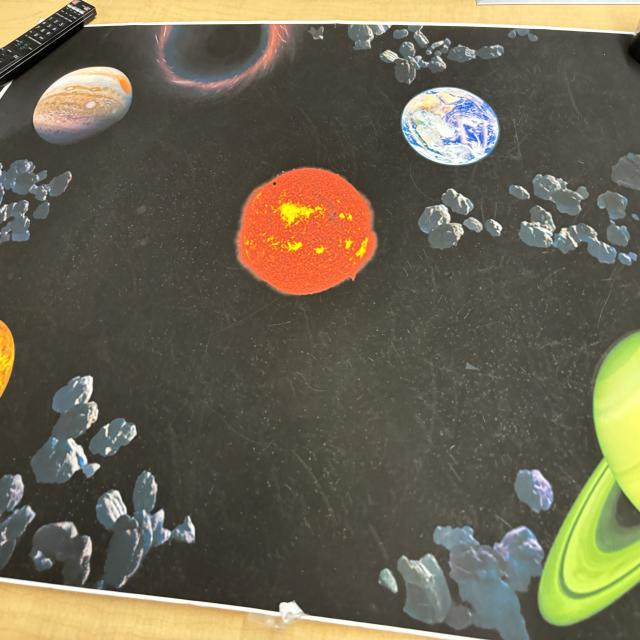Asteroids: (418, 146, 638, 282), (4, 390, 152, 581), (390, 484, 543, 637), (349, 20, 537, 78), (0, 157, 70, 245)
Black Hole: (158, 26, 286, 89)
Earth: (402, 84, 498, 164)
Jupiter: (32, 64, 131, 144)
Saturn: (538, 326, 640, 640)
Sun: (237, 163, 376, 293)
